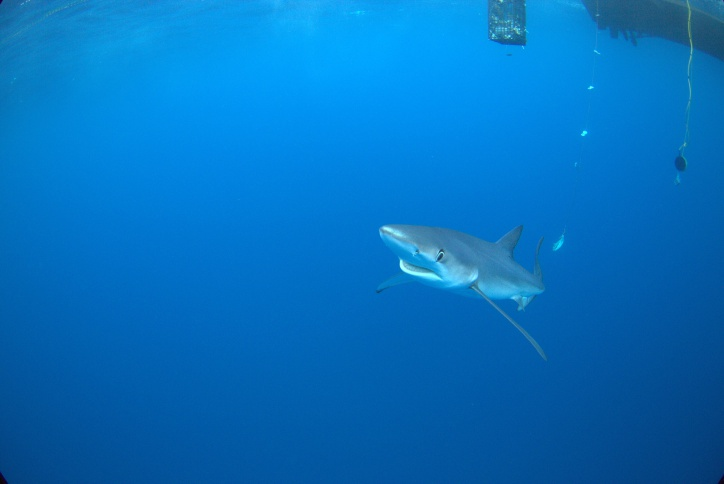Azul: (358, 201, 555, 367)
